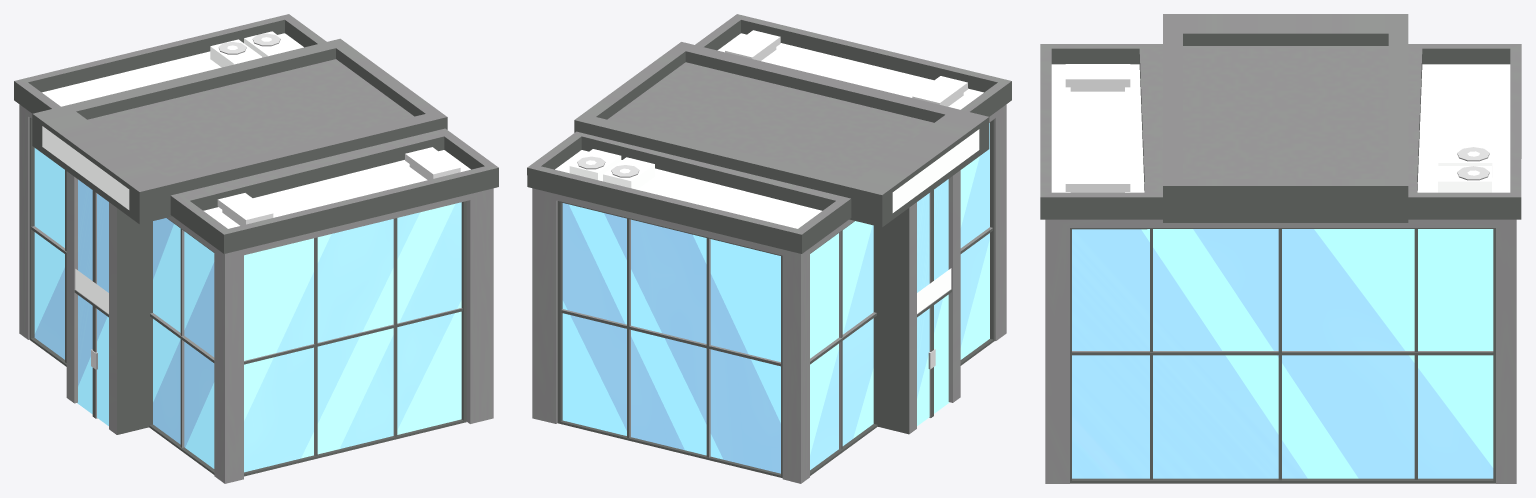
Rendered from tile_for_home_1x1.006 (8) supermarket (4).glb.
The picture shows the model from 3 angles, left to right: view 1: azimuth 30°, elevation 25°; view 2: azimuth 150°, elevation 25°; view 3: azimuth 270°, elevation 25°; orthographic projection. The views are drawn at different scales.
Parts seen in each view (by area): view 1: supermarket.004; view 2: supermarket.004; view 3: supermarket.004.
Boxes of the visible parts, x1,y1,x2,y2 form: supermarket.004: [14, 14, 498, 483]; supermarket.004: [527, 14, 1011, 483]; supermarket.004: [1040, 14, 1521, 483].
Bounding box in the file's own units: 6.41 × 5.25 × 7.56.
Materials: 1 (1 with a texture image).
